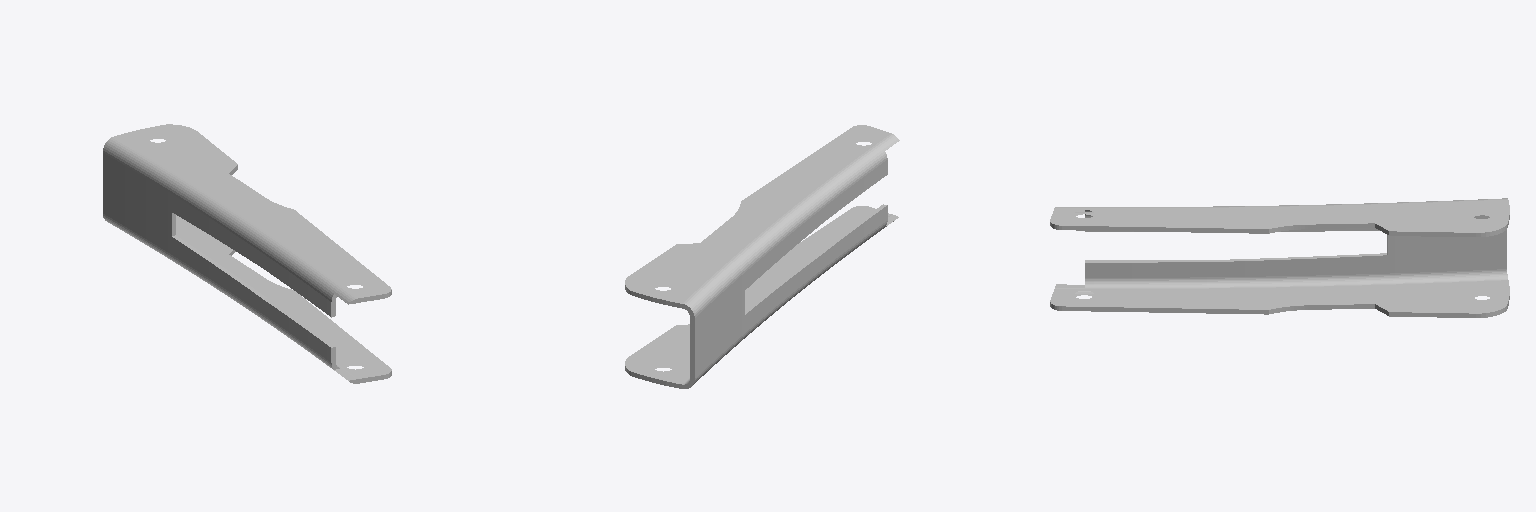
The model's file is original-3.obj.
3 renders of one model, left to right at view 1: azimuth 30°, elevation 25°; view 2: azimuth 150°, elevation 25°; view 3: azimuth 270°, elevation 25°, orthographic.
Visible parts, largest first — view 1: #ID5; view 2: #ID5; view 3: #ID5.
Part boxes in pixels (x1,y1,x2,y2): #ID5: (103,124,391,383); #ID5: (625,125,899,388); #ID5: (1050,198,1509,317).
Bounding box in the file's own units: 0.213 × 0.2169 × 1.06.